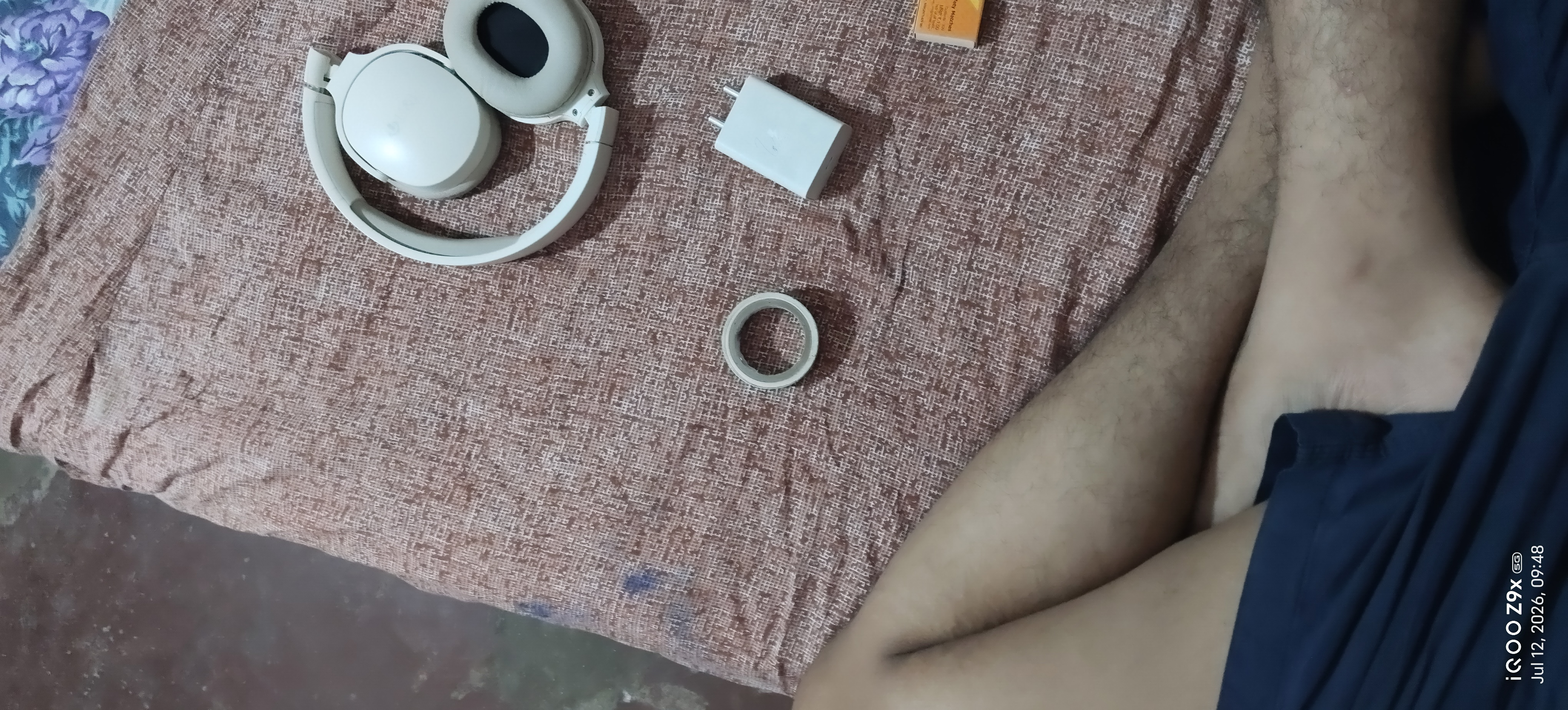charger: (682, 54, 869, 225)
matchbox: (895, 0, 1004, 62)
tape_roll: (703, 284, 836, 410)
